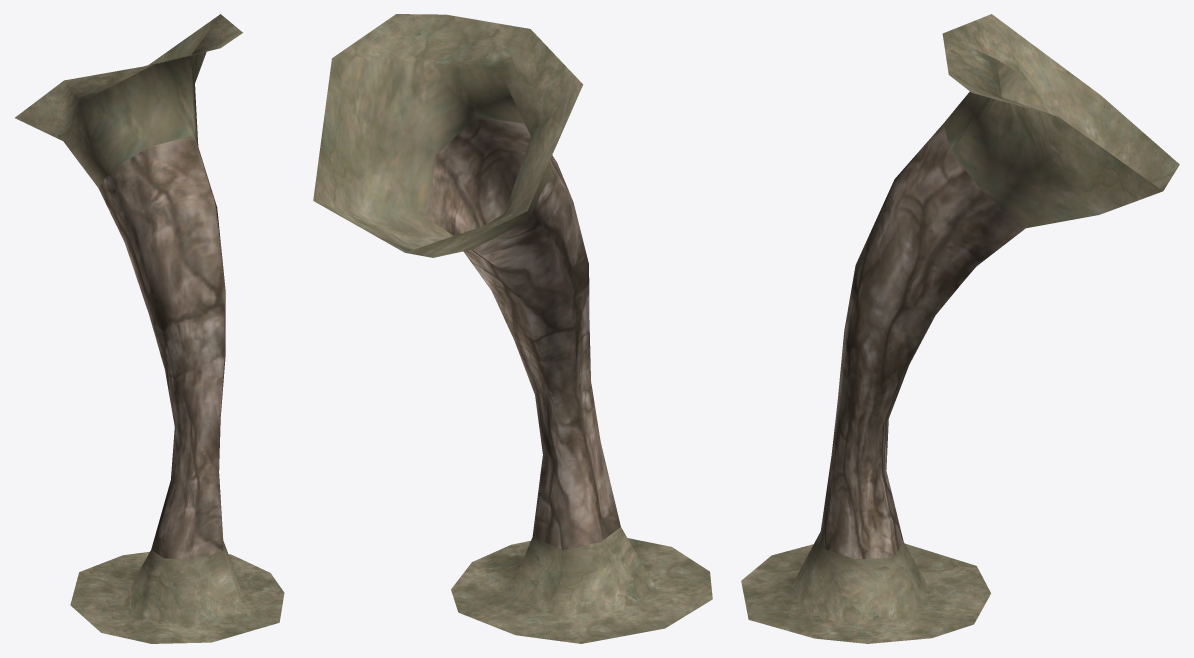
Rendered from EKH_GROTTO_PS_GR_PIL_484736__GX.fbx.
3 renders of one model, left to right at view 1: azimuth 30°, elevation 25°; view 2: azimuth 150°, elevation 25°; view 3: azimuth 270°, elevation 25°, orthographic. The views are drawn at different scales.
Visible parts, largest first — view 1: EKH_GROTTO_PS_GR_PIL_484736__GX; view 2: EKH_GROTTO_PS_GR_PIL_484736__GX; view 3: EKH_GROTTO_PS_GR_PIL_484736__GX.
Part boxes in pixels (x1,y1,x2,y2): EKH_GROTTO_PS_GR_PIL_484736__GX: (15,14,284,643); EKH_GROTTO_PS_GR_PIL_484736__GX: (313,14,712,643); EKH_GROTTO_PS_GR_PIL_484736__GX: (741,14,1179,643).
Bounding box in the file's own units: 37677 × 81134 × 57150.
Materials: 2 (2 with a texture image).
